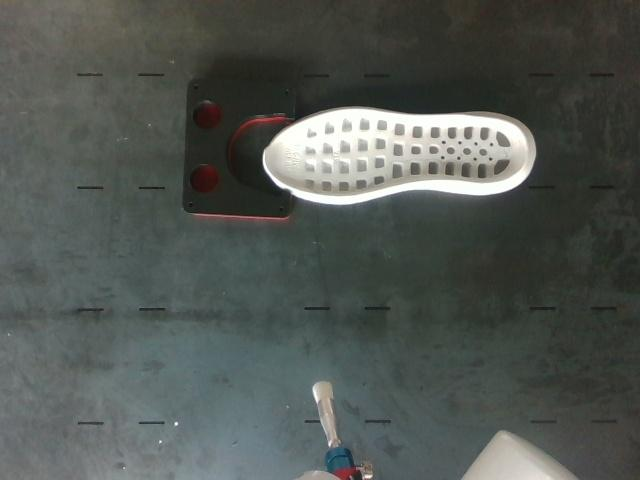shoes: (264, 110, 528, 197)
